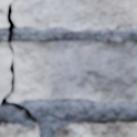brick: (56, 121, 136, 136), (0, 122, 39, 136)
broken_brick: (10, 40, 136, 103), (0, 0, 136, 31), (0, 40, 11, 100), (122, 27, 136, 31)
crack: (0, 2, 41, 134), (104, 22, 136, 31)
